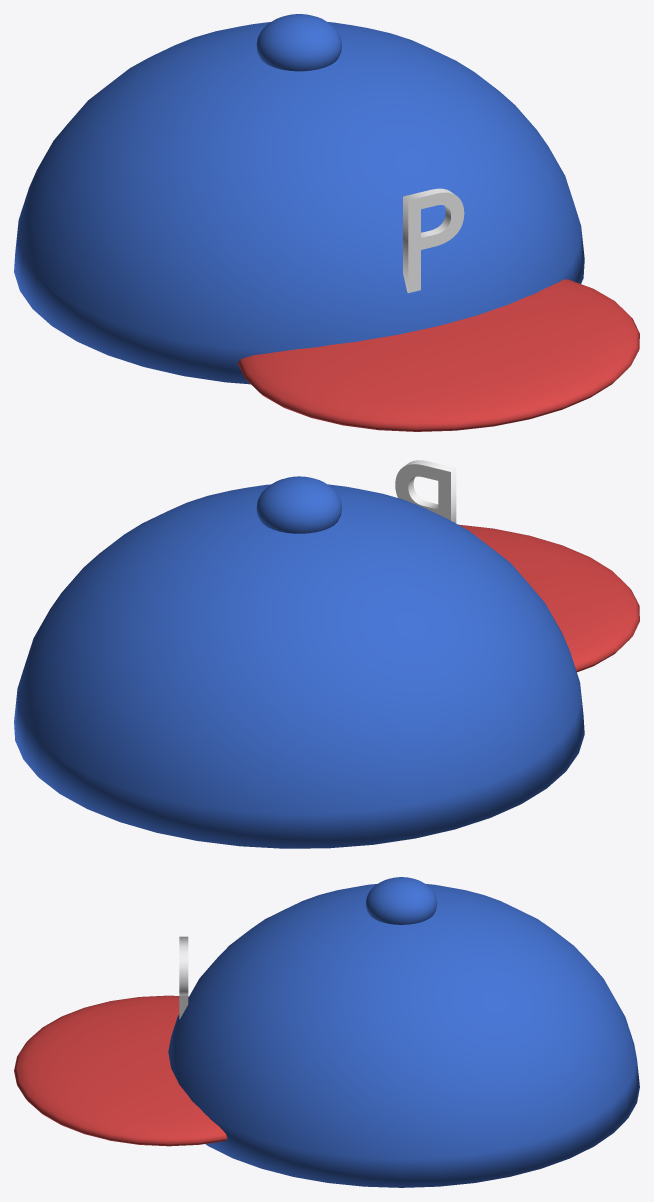
The model's file is head_acc_hat-c.glb.
3 views of the same model, one above another, from view 1: azimuth 30°, elevation 25°; view 2: azimuth 150°, elevation 25°; view 3: azimuth 270°, elevation 25° (orthographic). The views are drawn at different scales.
Parts seen in each view (by area): view 1: cap_dome, cap_brim, cap_button, cap_logo; view 2: cap_dome, cap_brim, cap_button, cap_logo; view 3: cap_dome, cap_brim, cap_button, cap_logo.
Boxes of the visible parts, x1=… form: cap_dome: x1=14, y1=22, x2=584, y2=384; cap_brim: x1=237, y1=279, x2=639, y2=431; cap_button: x1=256, y1=14, x2=341, y2=71; cap_logo: x1=403, y1=188, x2=464, y2=292; cap_dome: x1=14, y1=484, x2=584, y2=848; cap_brim: x1=458, y1=524, x2=639, y2=672; cap_button: x1=256, y1=476, x2=341, y2=533; cap_logo: x1=395, y1=460, x2=456, y2=523; cap_dome: x1=168, y1=883, x2=639, y2=1187; cap_brim: x1=14, y1=995, x2=227, y2=1146; cap_button: x1=365, y1=877, x2=437, y2=924; cap_logo: x1=179, y1=936, x2=188, y2=1019.
Bounding box in the file's own units: 0.16 × 0.077 × 0.21.
